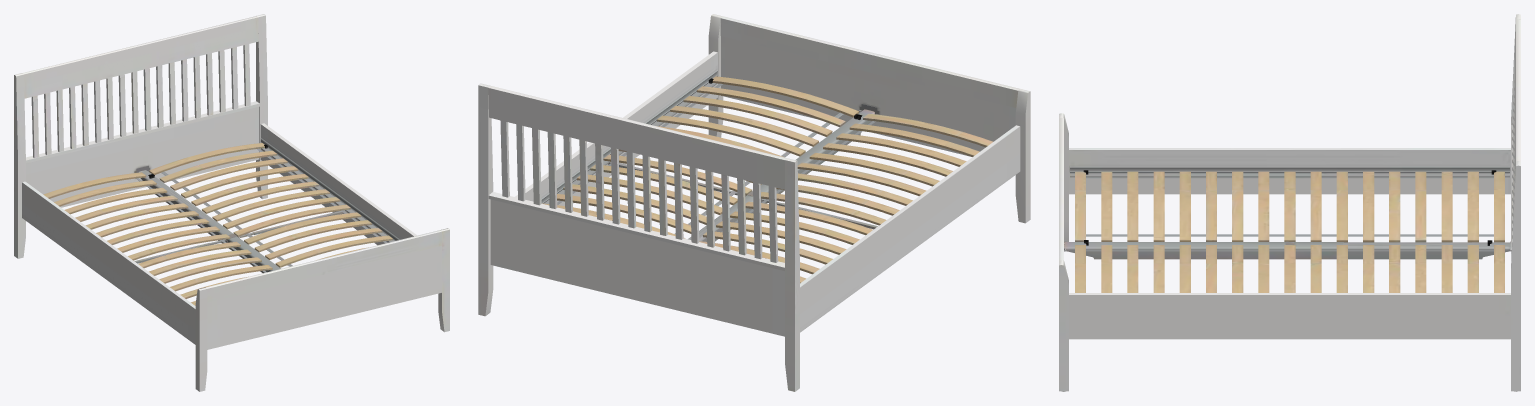
3 views of the same model, side by side, from view 1: azimuth 30°, elevation 25°; view 2: azimuth 150°, elevation 25°; view 3: azimuth 270°, elevation 25° (orthographic). The views are drawn at different scales.
Parts seen in each view (by area): view 1: Mesh_0.001; view 2: Mesh_0.001; view 3: Mesh_0.001.
Part boxes in pixels (x1,y1,x2,y2): Mesh_0.001: (14, 14, 449, 391); Mesh_0.001: (478, 14, 1030, 391); Mesh_0.001: (1059, 14, 1520, 391).
Bounding box in the file's own units: 1.61 × 1.12 × 2.07.
Materials: 1 (1 with a texture image).
